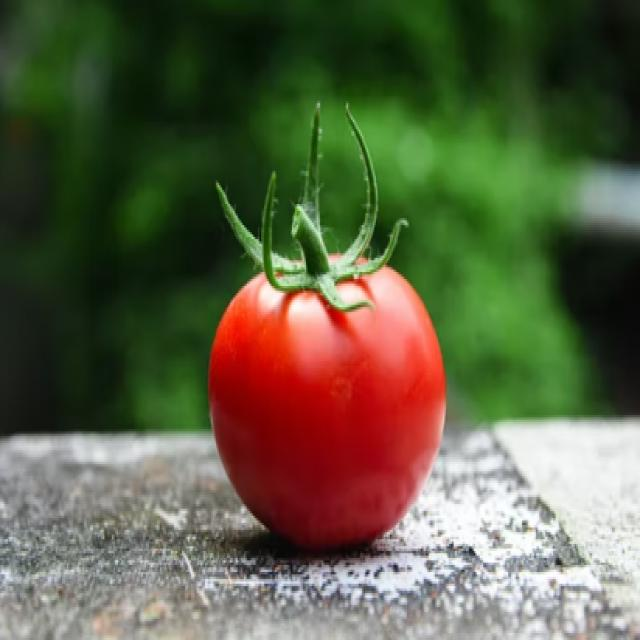Tomato: (219, 131, 443, 534)
